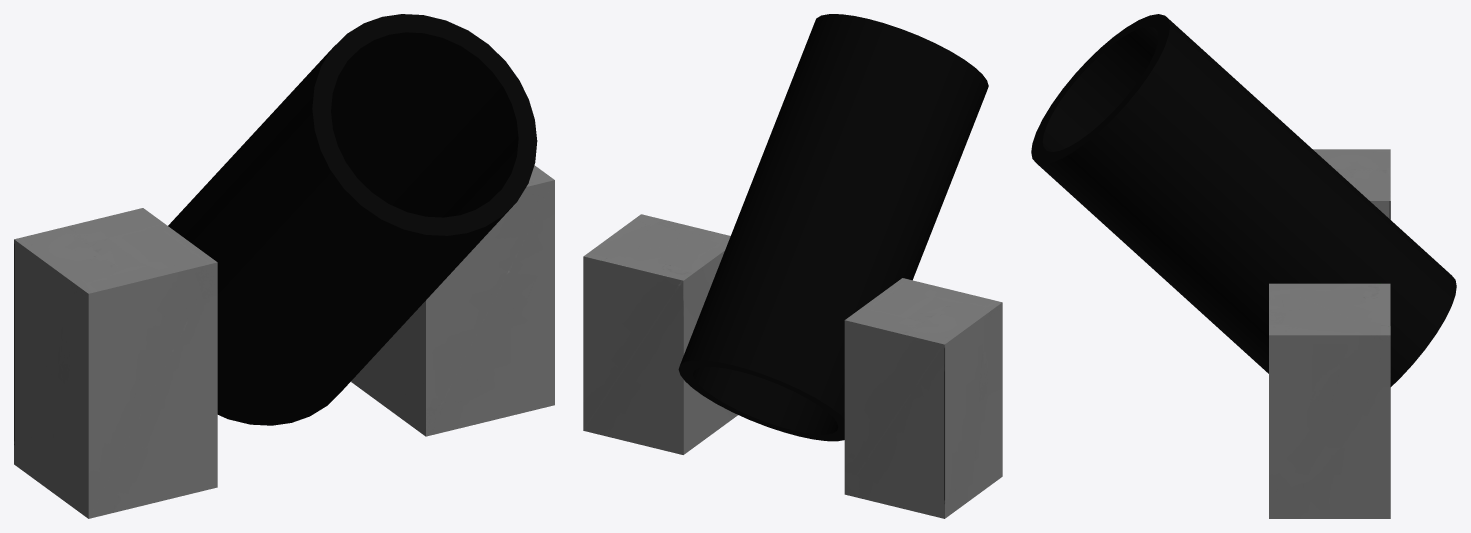
Rendered from Cannon.FBX.
3 renders of one model, left to right at view 1: azimuth 30°, elevation 25°; view 2: azimuth 150°, elevation 25°; view 3: azimuth 270°, elevation 25°, orthographic. The views are drawn at different scales.
Visible parts, largest first — view 1: cannon; view 2: cannon; view 3: cannon.
Boxes of the visible parts, <box> form: cannon: <box>14,14,554,518</box>; cannon: <box>583,14,1002,518</box>; cannon: <box>1031,14,1456,518</box>.
Bounding box in the file's own units: 107 × 107 × 103.
Materials: 1 (1 with a texture image).
